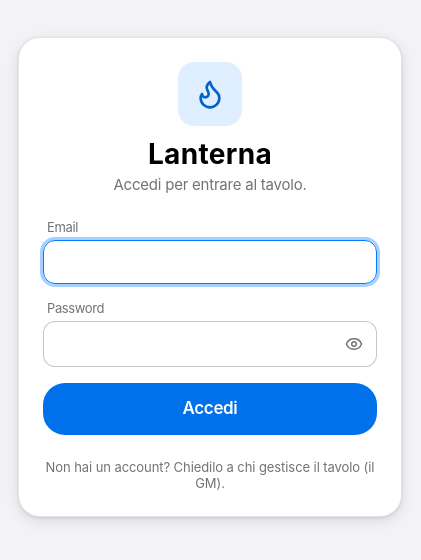
Test: login › campi vuoti: errori inline e nessuna richiesta di login
This screenshot has width=421, height=560.
Click the button "Accedi" at (210, 408), box [43,382,377,434]
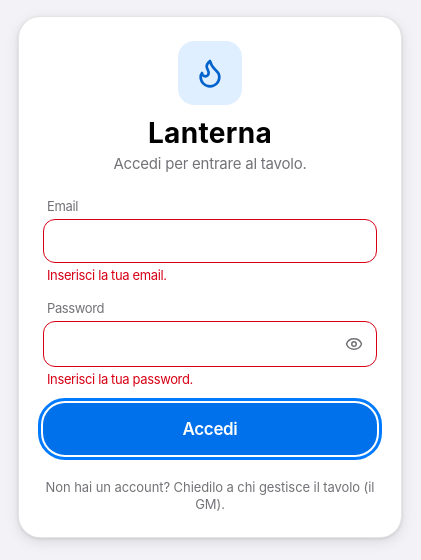
Check: the text "Inserisci la tua email." is shown, box [47,267,167,283]
